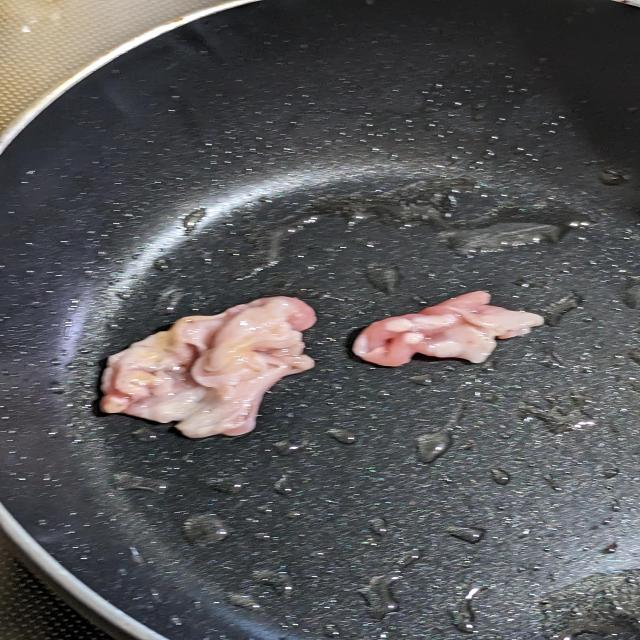NG raw pork,: (338, 284, 550, 372)
NG undercooked pork,: (88, 290, 323, 443)
